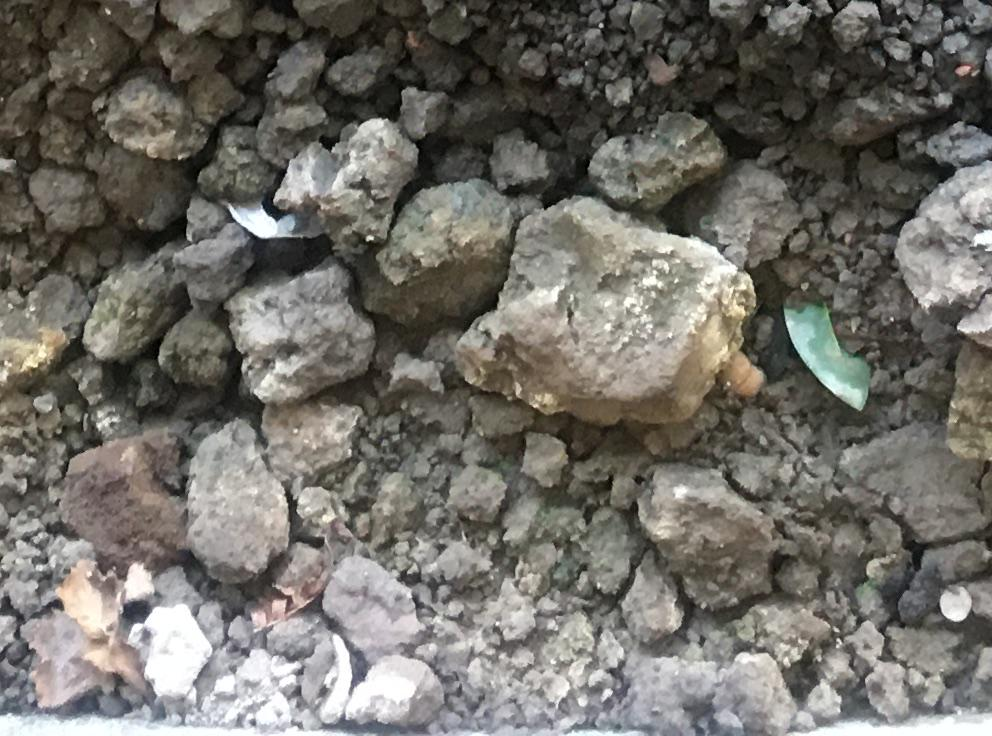block: (461, 192, 739, 434), (362, 180, 517, 324), (637, 464, 779, 614), (223, 264, 372, 384), (180, 422, 291, 582), (60, 437, 185, 574), (587, 113, 721, 205)
